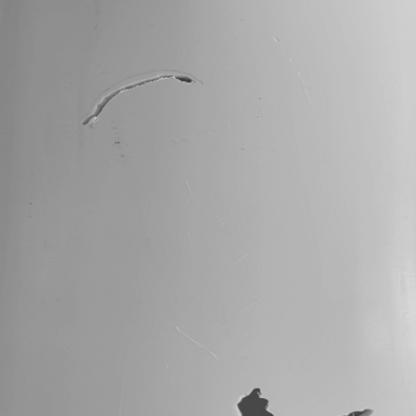fengxi: (82, 71, 198, 125), (345, 406, 375, 416)
kongdong: (234, 387, 277, 416)
